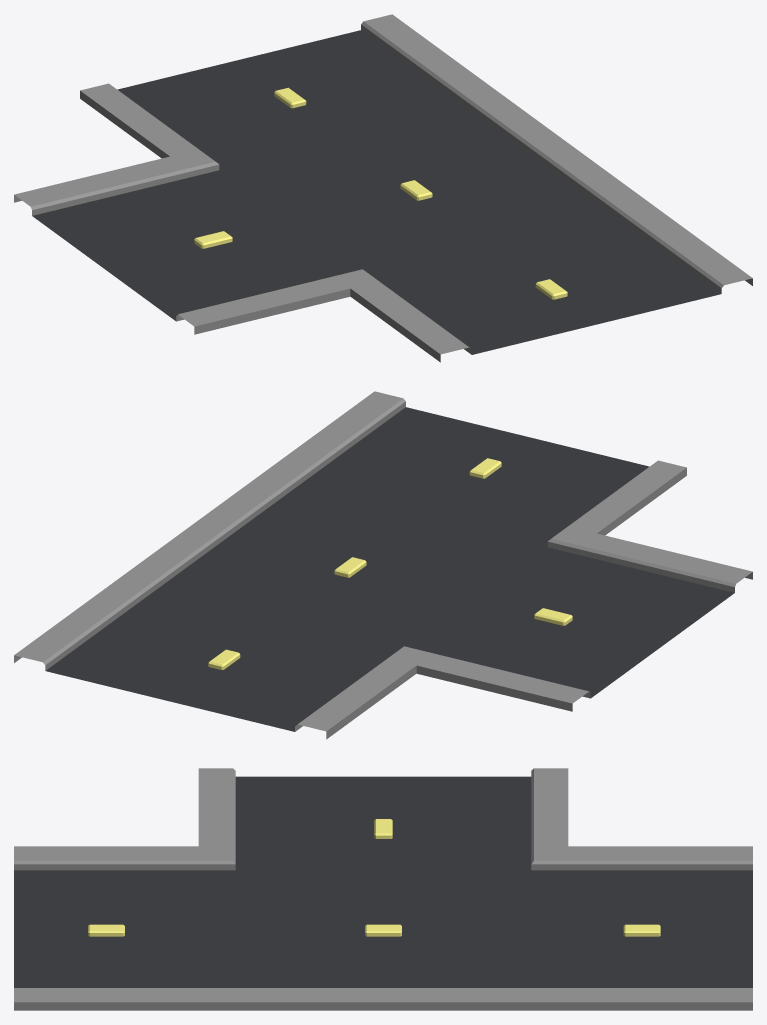
File: 3WayRoad.fbx
3 views of the same model, one above another, from view 1: azimuth 30°, elevation 25°; view 2: azimuth 150°, elevation 25°; view 3: azimuth 270°, elevation 25° (orthographic). The views are drawn at different scales.
Parts seen in each view (by area): view 1: polySurface38; view 2: polySurface38; view 3: polySurface38.
Part boxes in pixels (x1,y1,x2,y2): polySurface38: (14, 14, 752, 362); polySurface38: (14, 391, 752, 739); polySurface38: (14, 768, 752, 1010).
Size of the model in its own units: 15 by 0.4 by 20.
